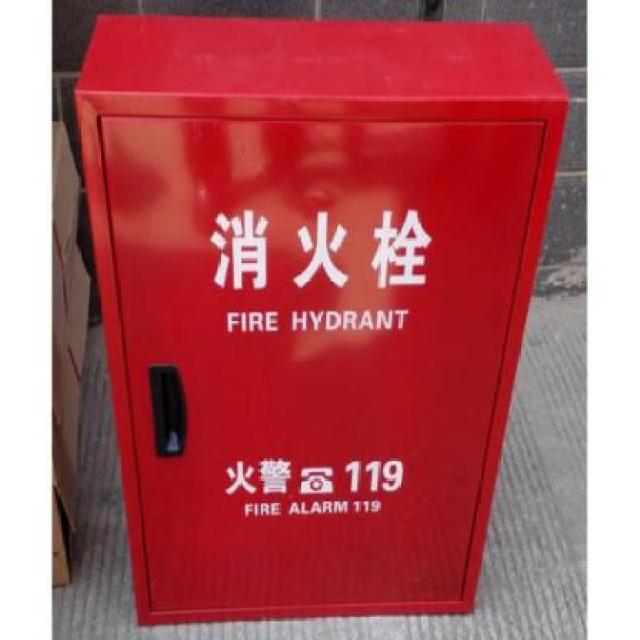firehydrant: (71, 8, 574, 630)
